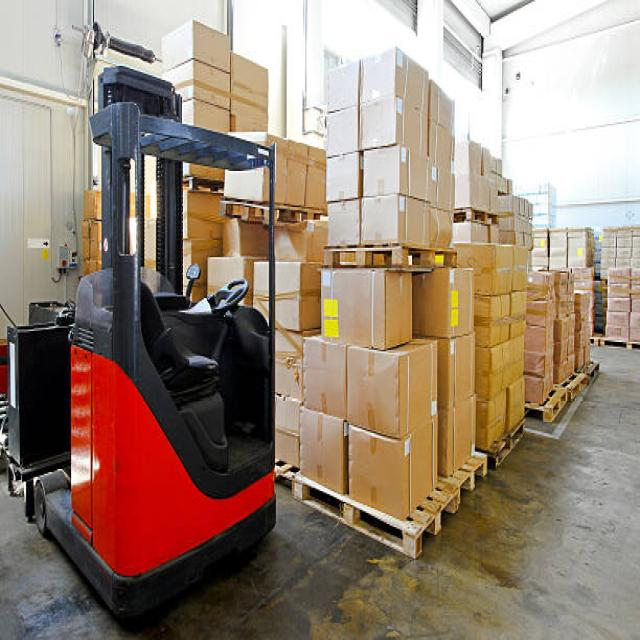Wooden-Pallets: (285, 471, 465, 572), (312, 234, 409, 280), (492, 406, 532, 479), (458, 443, 490, 508), (546, 376, 574, 434)
